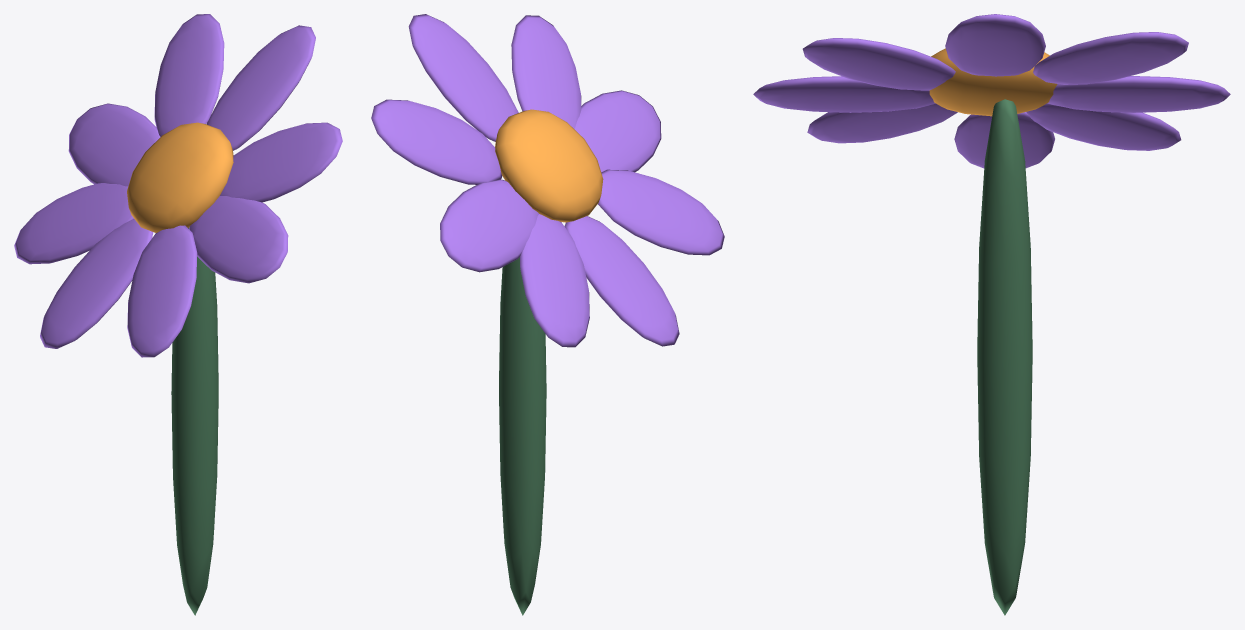
Rendered from flower1.fbx.
3 renders of one model, left to right at view 1: azimuth 30°, elevation 25°; view 2: azimuth 150°, elevation 25°; view 3: azimuth 270°, elevation 25°, orthographic. The views are drawn at different scales.
Parts seen in each view (by area): view 1: Flower.004; view 2: Flower.004; view 3: Flower.004.
Boxes of the visible parts, <box> form: Flower.004: <box>14,14,342,615</box>; Flower.004: <box>371,14,724,615</box>; Flower.004: <box>753,14,1230,615</box>.
Bounding box in the file's own units: 56.73 × 117 × 75.9.
